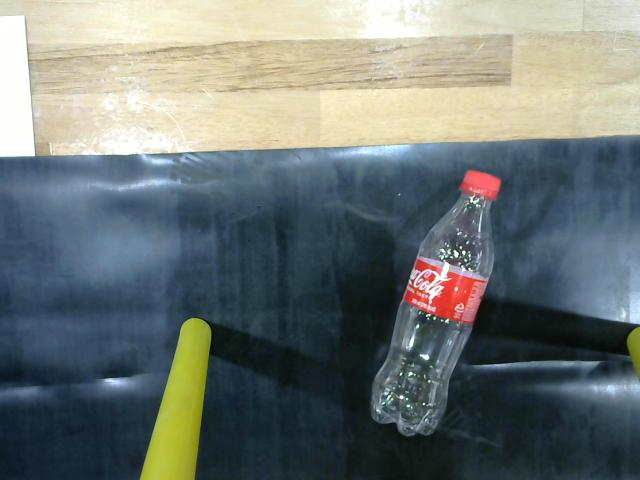bottle: (369, 163, 506, 445)
